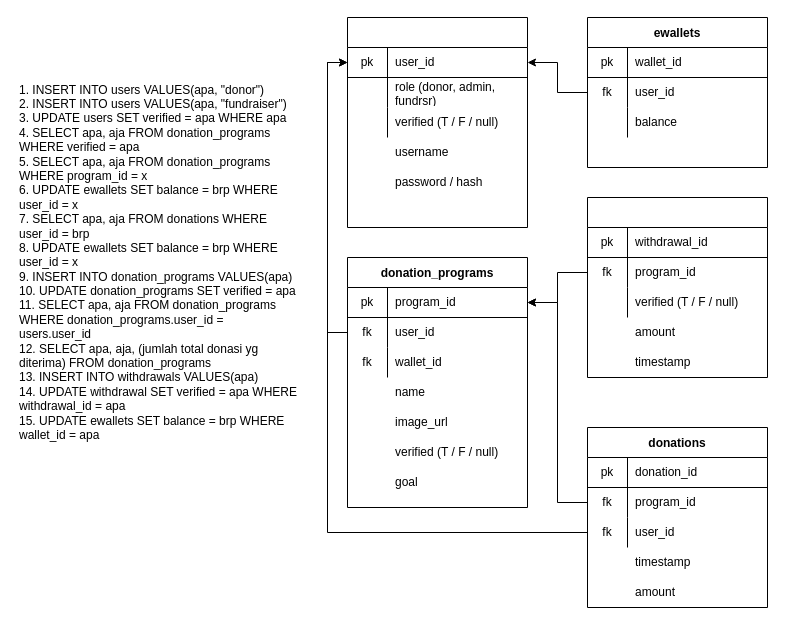
The diagram is 785 pixels wide and 625 high, and some of its shapes have lost their labels. Here are the shapes that lost their labels. From the top down, the box of each, then its label:
(346, 16, 528, 228): users
(586, 196, 768, 378): withdrawals
